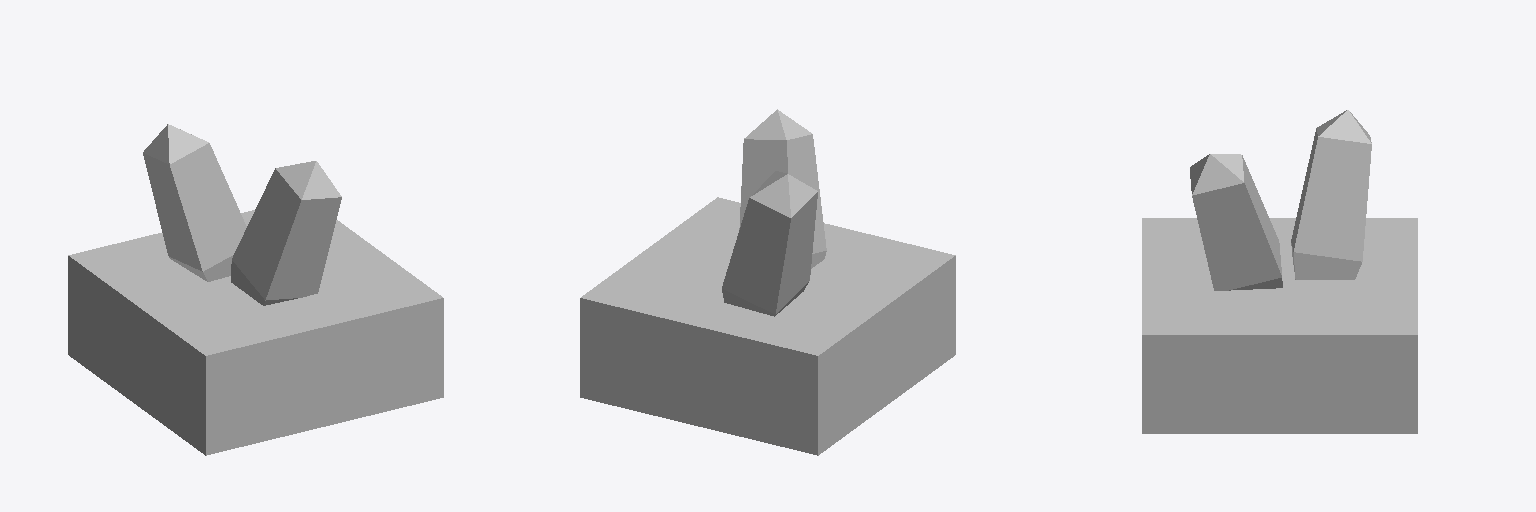
File: towerDefense_118.obj
3 views of the same model, side by side, from view 1: azimuth 30°, elevation 25°; view 2: azimuth 150°, elevation 25°; view 3: azimuth 270°, elevation 25° (orthographic).
Parts seen in each view (by area): view 1: Mesh3 Group4 Group1 Model, Mesh2 Group3 Group1 Model, Mesh1 Group2 Group1 Model; view 2: Mesh3 Group4 Group1 Model, Mesh1 Group2 Group1 Model, Mesh2 Group3 Group1 Model; view 3: Mesh3 Group4 Group1 Model, Mesh1 Group2 Group1 Model, Mesh2 Group3 Group1 Model.
Boxes of the visible parts, x1=… form: Mesh3 Group4 Group1 Model: x1=68, y1=210, x2=443, y2=455; Mesh2 Group3 Group1 Model: x1=231, y1=161, x2=341, y2=305; Mesh1 Group2 Group1 Model: x1=143, y1=124, x2=246, y2=281; Mesh3 Group4 Group1 Model: x1=580, y1=197, x2=955, y2=455; Mesh1 Group2 Group1 Model: x1=722, y1=171, x2=817, y2=316; Mesh2 Group3 Group1 Model: x1=739, y1=109, x2=826, y2=268; Mesh3 Group4 Group1 Model: x1=1142, y1=218, x2=1417, y2=433; Mesh1 Group2 Group1 Model: x1=1291, y1=110, x2=1371, y2=279; Mesh2 Group3 Group1 Model: x1=1190, y1=154, x2=1282, y2=290.
Bounding box in the file's own units: 1 × 0.9653 × 1.